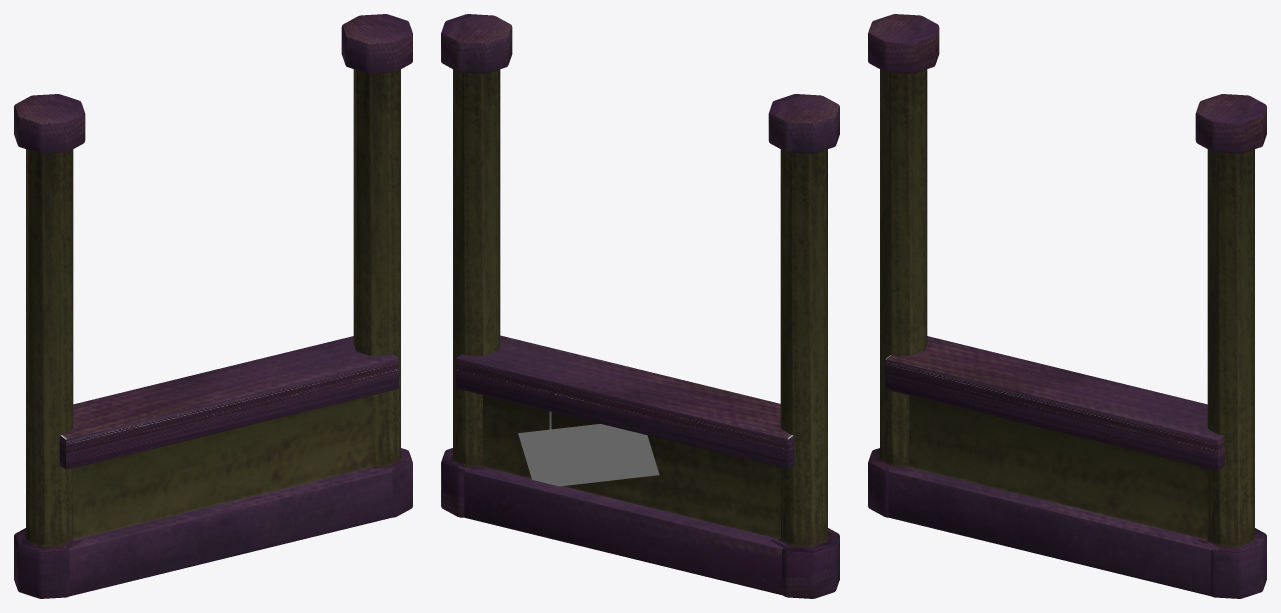
Rendered from MANOR_WALL_2_1_001.obj.
3 views of the same model, side by side, from view 1: azimuth 30°, elevation 25°; view 2: azimuth 150°, elevation 25°; view 3: azimuth 330°, elevation 25° (orthographic).
Parts seen in each view (by area): view 1: MANOR_WALL_2_1_001; view 2: MANOR_WALL_2_1_001; view 3: MANOR_WALL_2_1_001.
Boxes of the visible parts, x1,y1,x2,y2 form: MANOR_WALL_2_1_001: (14,14,412,598); MANOR_WALL_2_1_001: (441,14,839,598); MANOR_WALL_2_1_001: (868,14,1266,598).
Size of the model in its own units: 2.57 by 3 by 0.4135.
